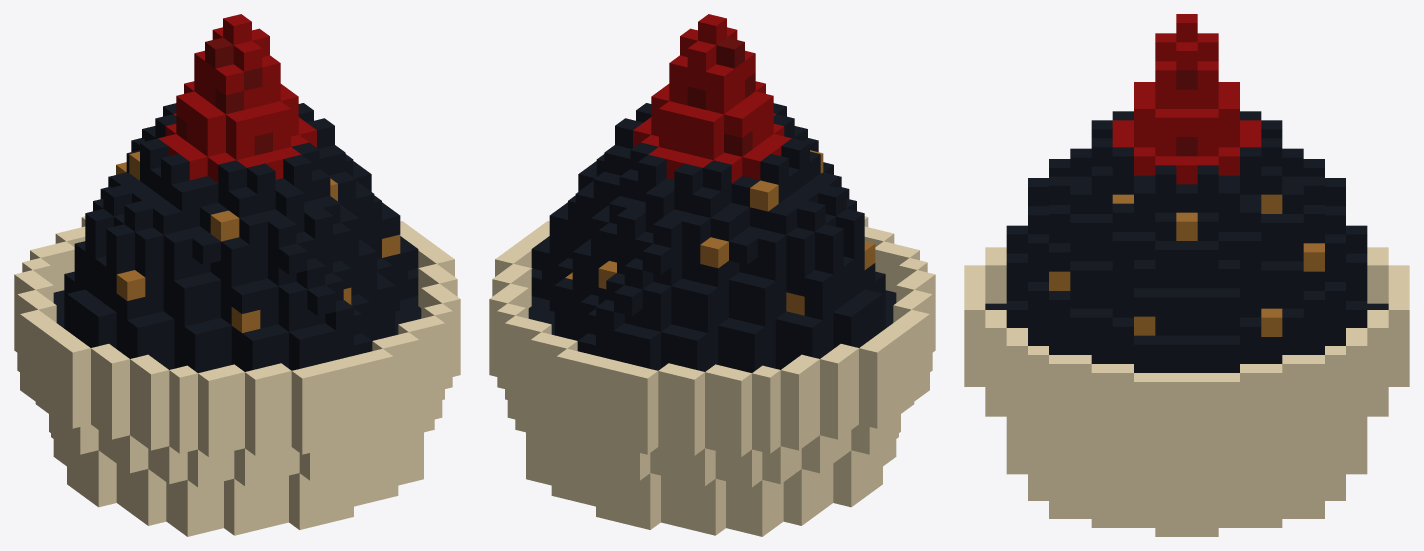
Rendered from CharCupcake.obj.
3 views of the same model, side by side, from view 1: azimuth 30°, elevation 25°; view 2: azimuth 150°, elevation 25°; view 3: azimuth 270°, elevation 25° (orthographic).
Parts seen in each view (by area): view 1: obj1; view 2: obj1; view 3: obj1.
Boxes of the visible parts, <box> form: obj1: <box>14,14,460,536</box>; obj1: <box>489,14,935,536</box>; obj1: <box>964,14,1409,536</box>.
Bounding box in the file's own units: 0.0315 × 0.0345 × 0.0315.
